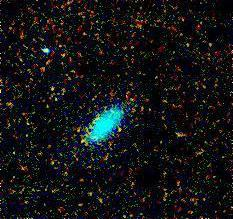star: (108, 116, 138, 146)
